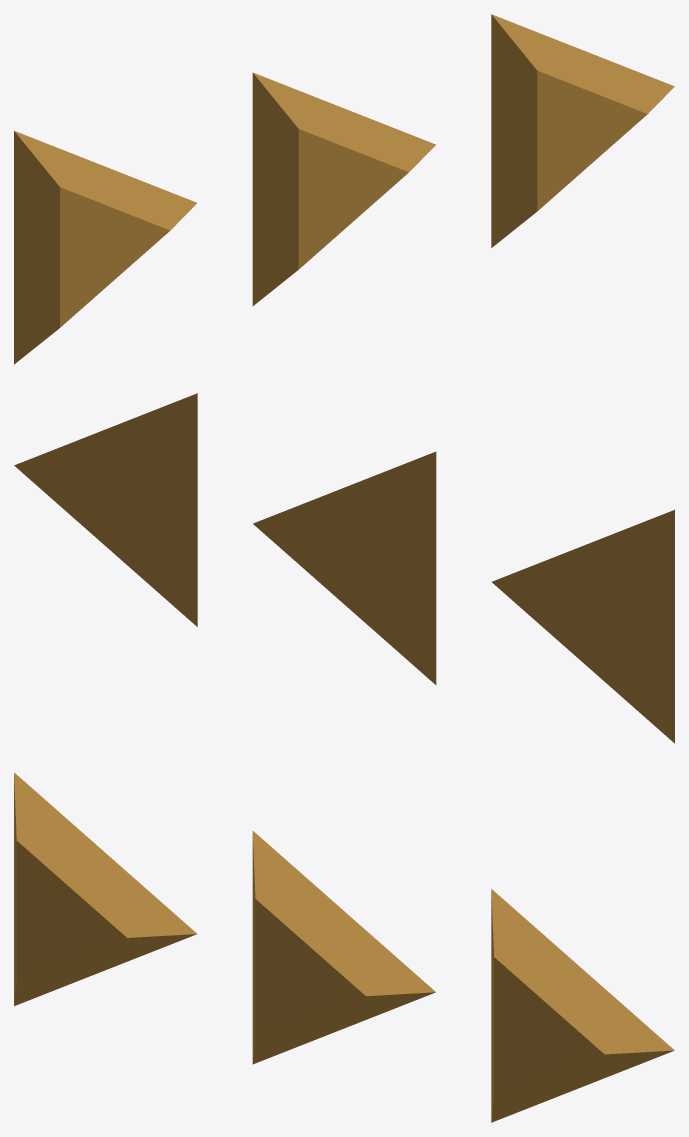
File: Details_Triangles.glb
The picture shows the model from 3 angles, top to bottom: view 1: azimuth 30°, elevation 25°; view 2: azimuth 150°, elevation 25°; view 3: azimuth 330°, elevation 25°; orthographic projection.
Parts seen in each view (by area): view 1: Details_Triangles; view 2: Details_Triangles; view 3: Details_Triangles.
Part boxes in pixels (left/top/right/bottom): Details_Triangles: left=14, top=14, right=674, bottom=364; Details_Triangles: left=14, top=393, right=674, bottom=743; Details_Triangles: left=14, top=772, right=674, bottom=1122.
Size of the model in its own units: 0.1618 by 0.0548 by 0.00916.
